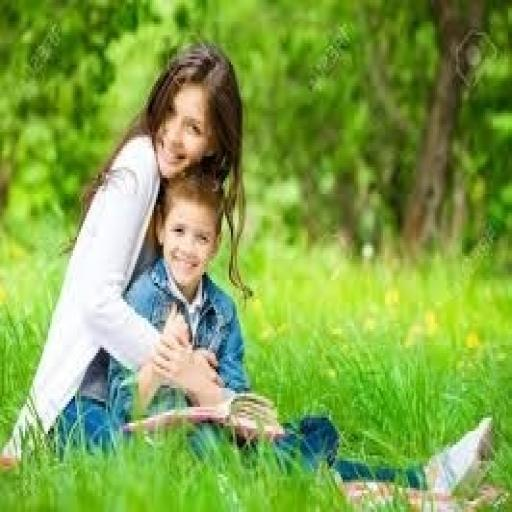sitting: (0, 38, 497, 506)
